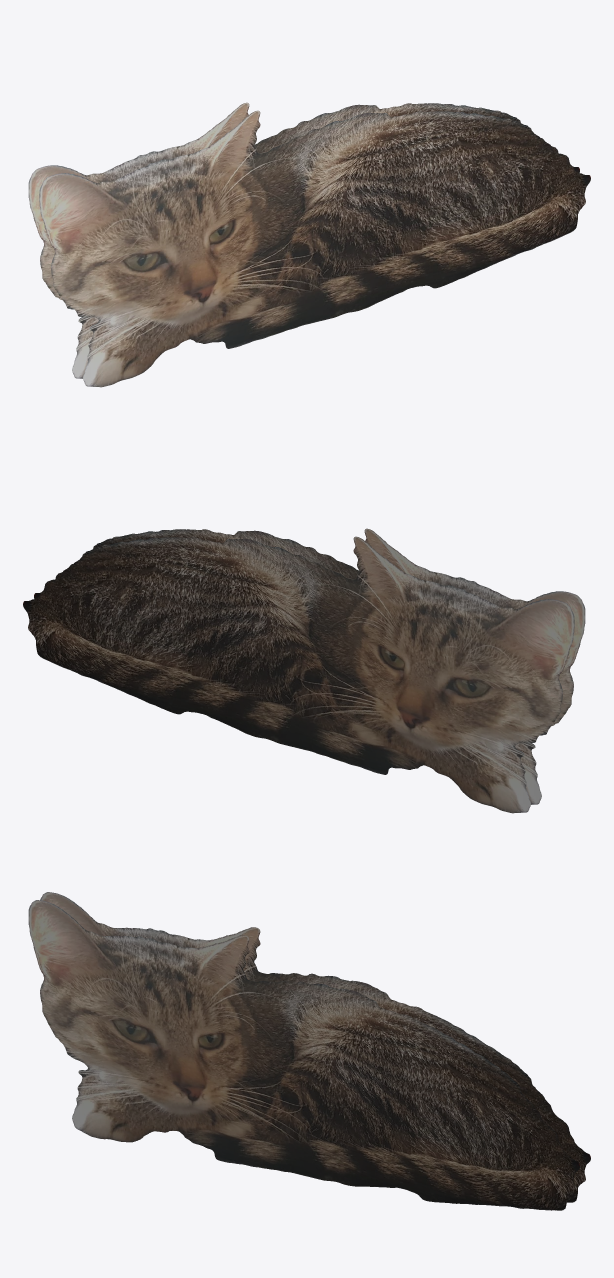
The model's file is TOFU.fbx.
3 renders of one model, top to bottom at view 1: azimuth 30°, elevation 25°; view 2: azimuth 150°, elevation 25°; view 3: azimuth 330°, elevation 25°, orthographic.
Parts seen in each view (by area): view 1: Plane; view 2: Plane; view 3: Plane.
Part boxes in pixels (box(x1,y1,x2,y2)): Plane: box(28, 102, 590, 387); Plane: box(23, 528, 585, 813); Plane: box(28, 892, 590, 1210).
Size of the model in its own units: 1065 by 441 by 34.91.
1 material, 1 textured.
